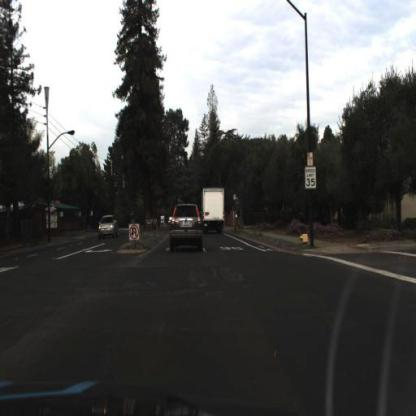car: (163, 192, 208, 263), (198, 182, 231, 236), (96, 210, 120, 245)
truck: (202, 185, 228, 234)
